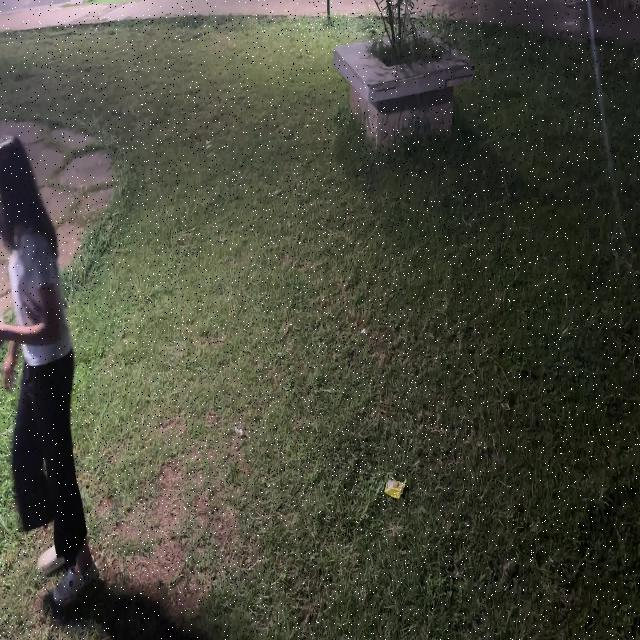garbage_dumping: (380, 471, 413, 504)
